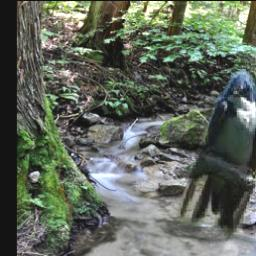Swallow: (178, 69, 256, 245)
